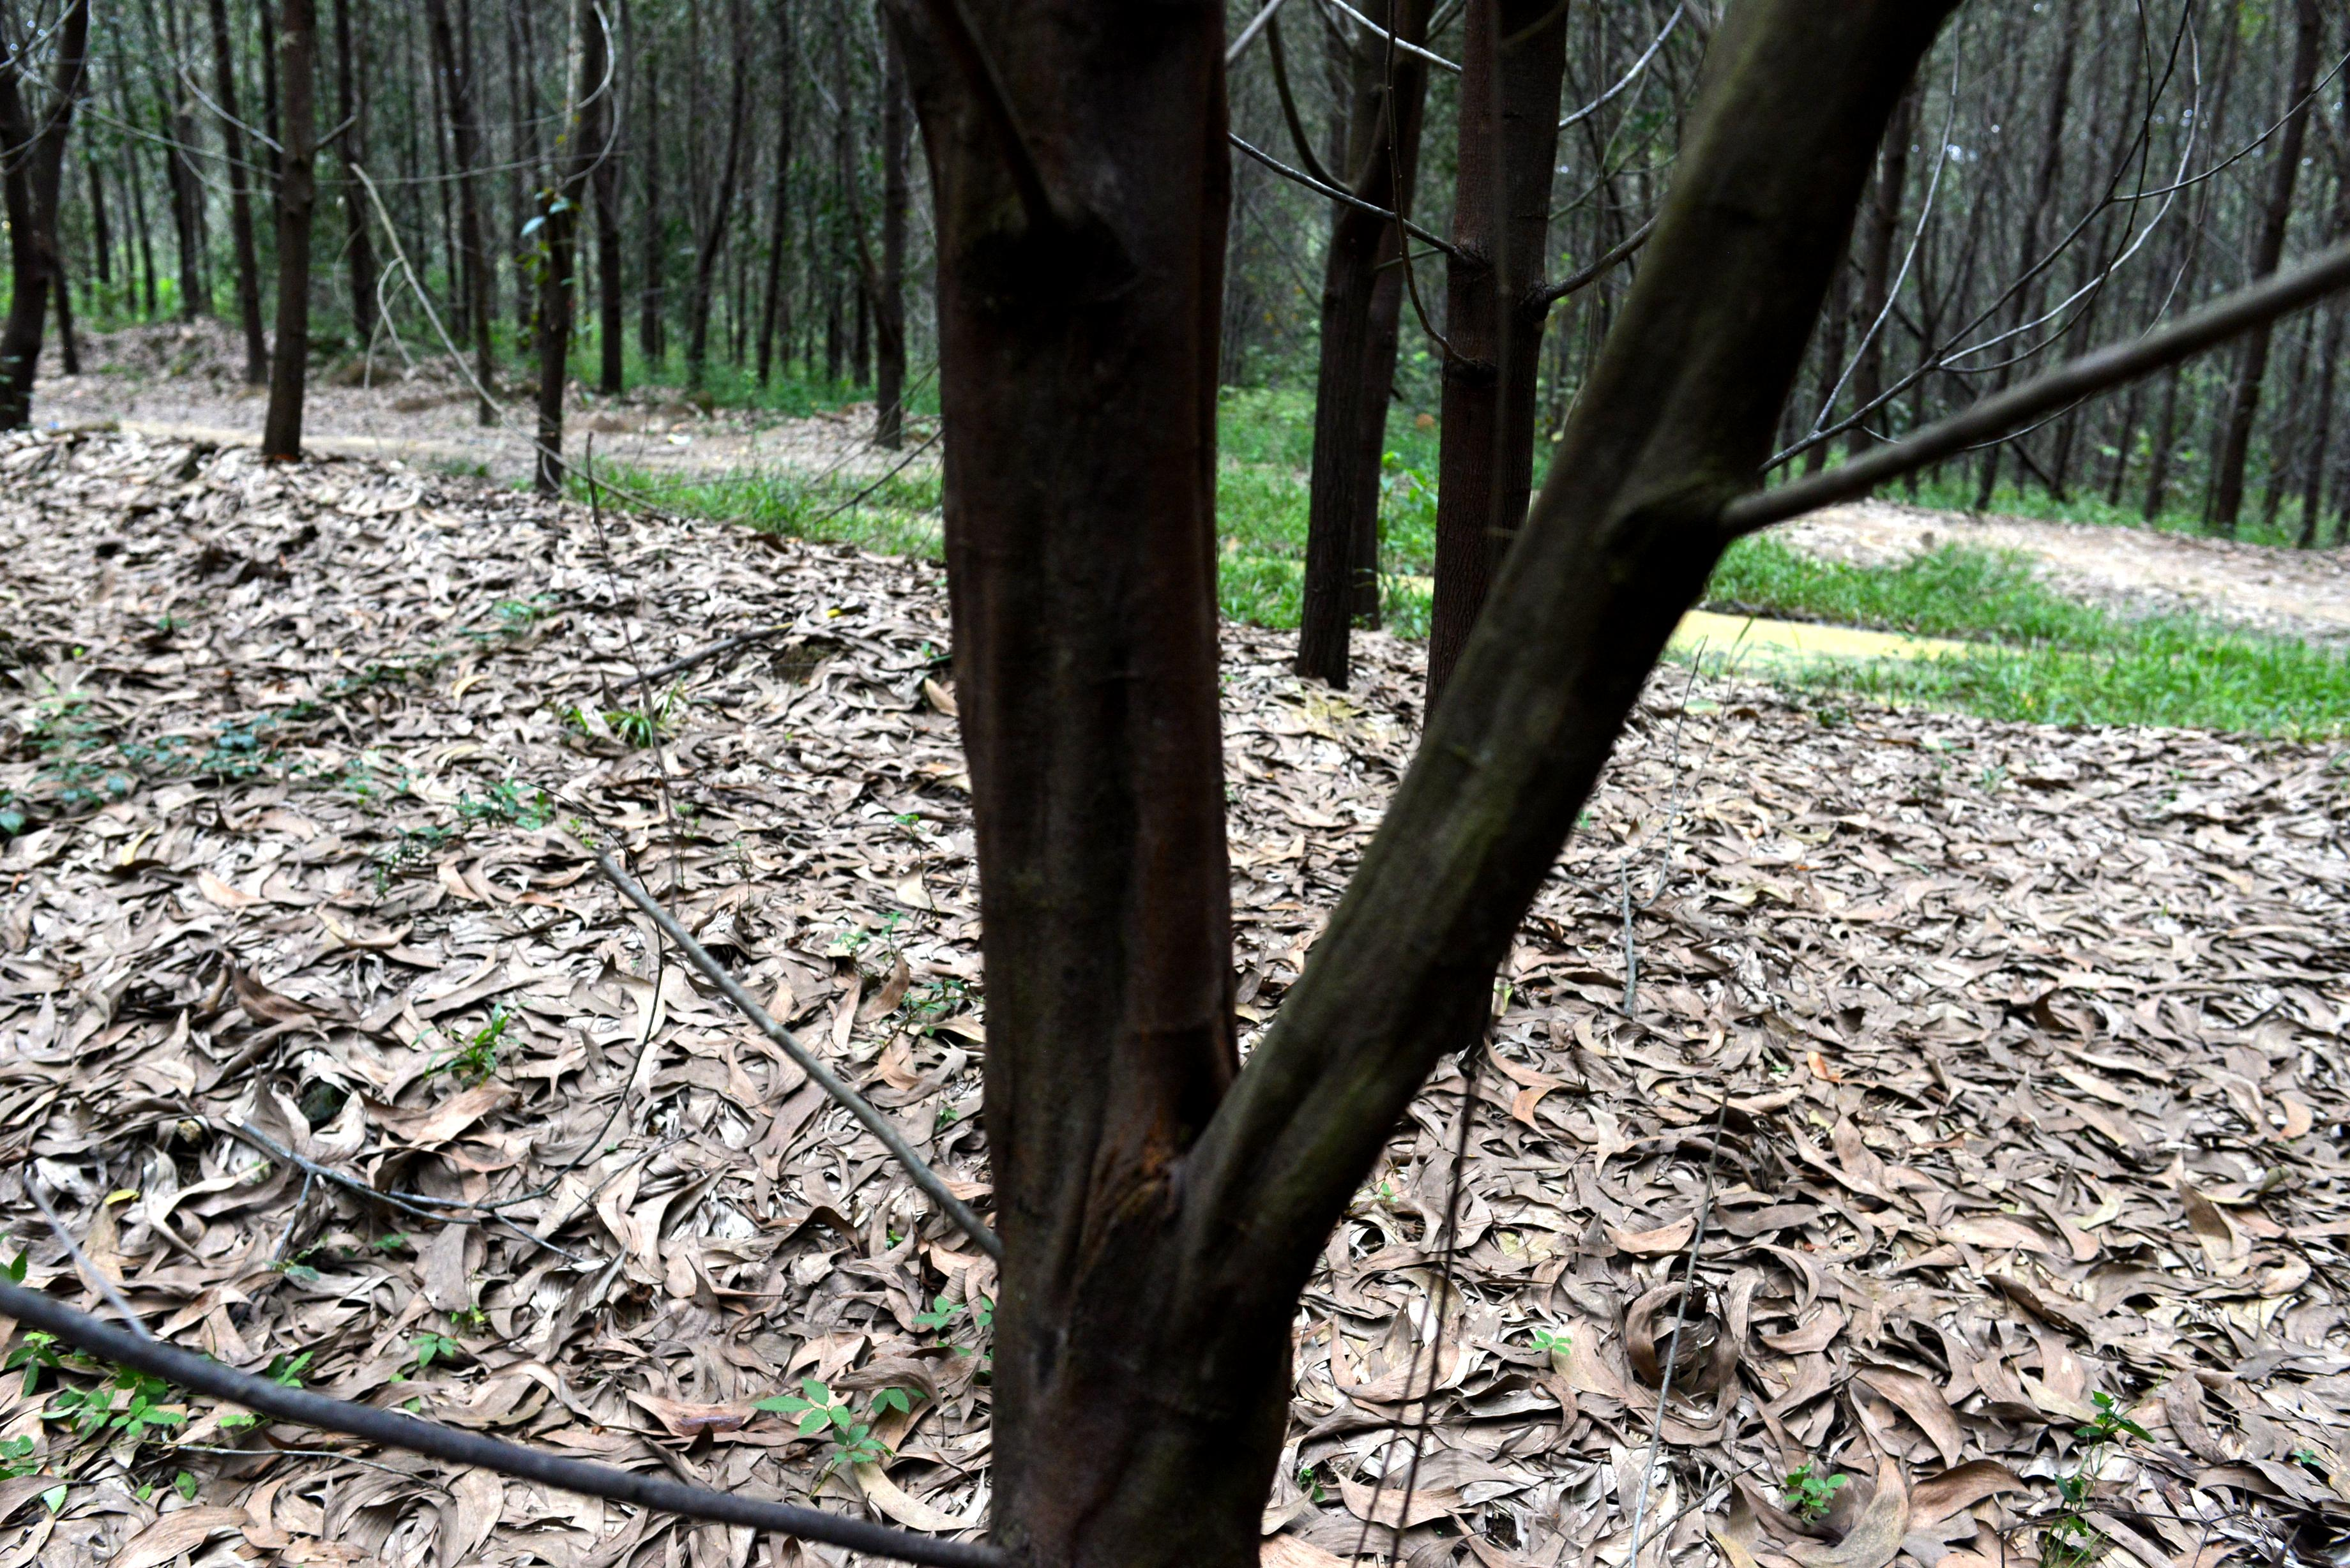Stem Deformation: (901, 0, 1291, 1568)
